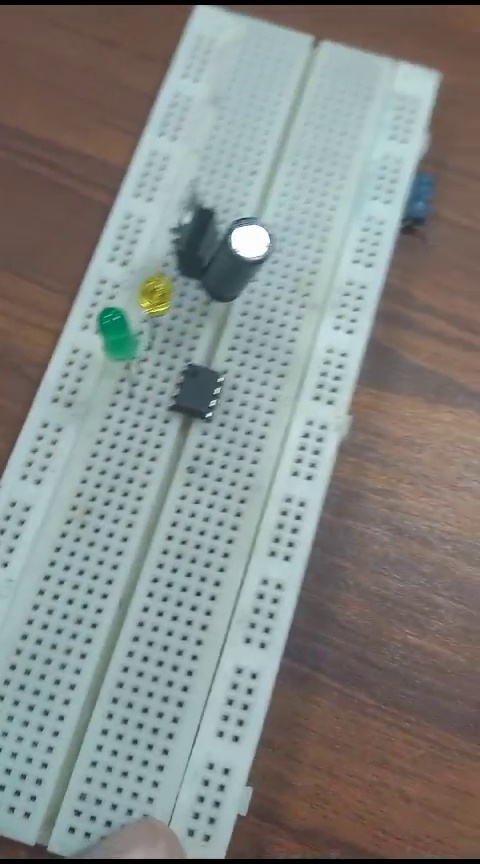IC: (174, 356, 216, 421)
LED: (90, 308, 140, 372), (138, 276, 172, 315)
capacitor: (224, 213, 271, 301), (408, 169, 436, 233)
voltage regulator: (163, 184, 220, 267)
